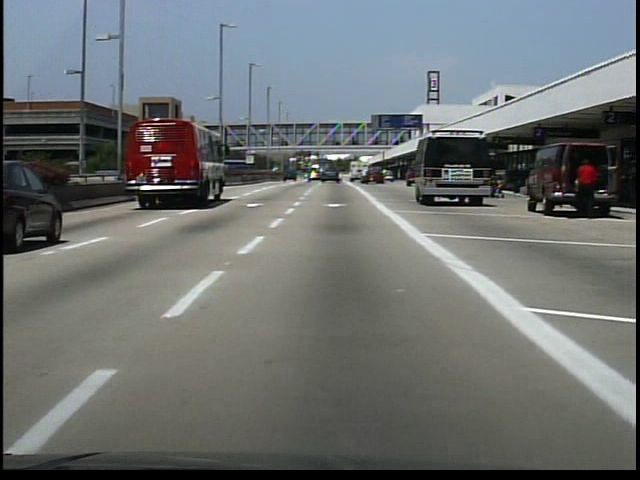person: (574, 157, 596, 219), (379, 167, 390, 187)
